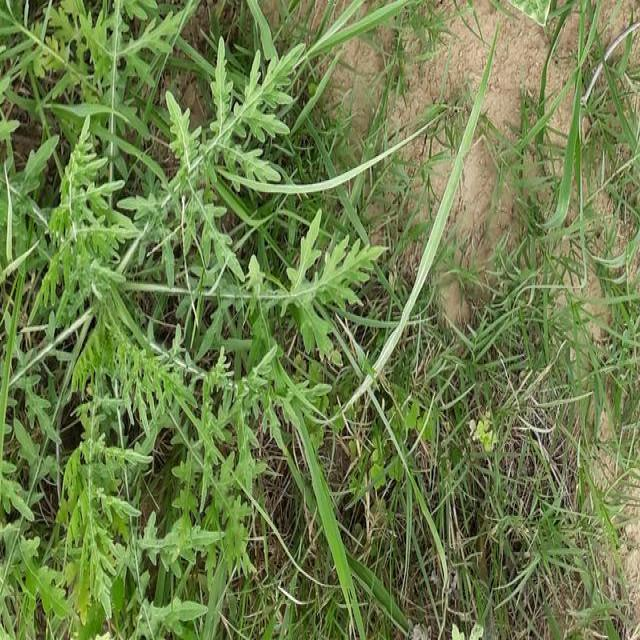weed: (383, 311, 609, 640), (568, 0, 640, 226)
